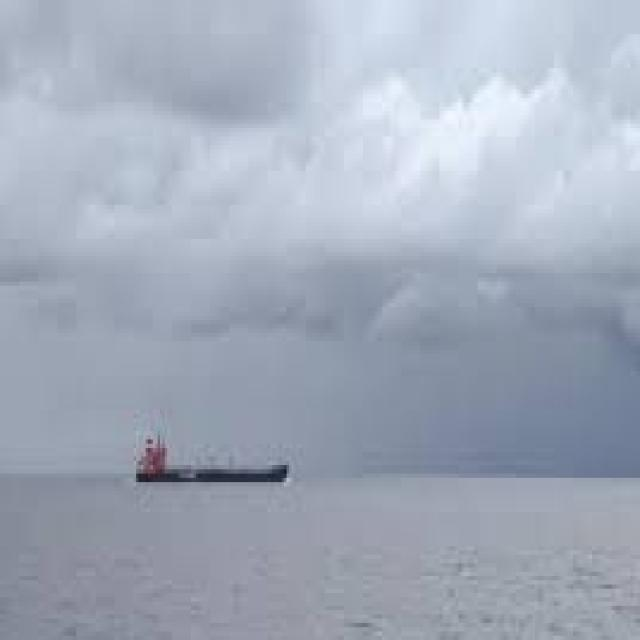cargoship: (131, 418, 296, 489)
